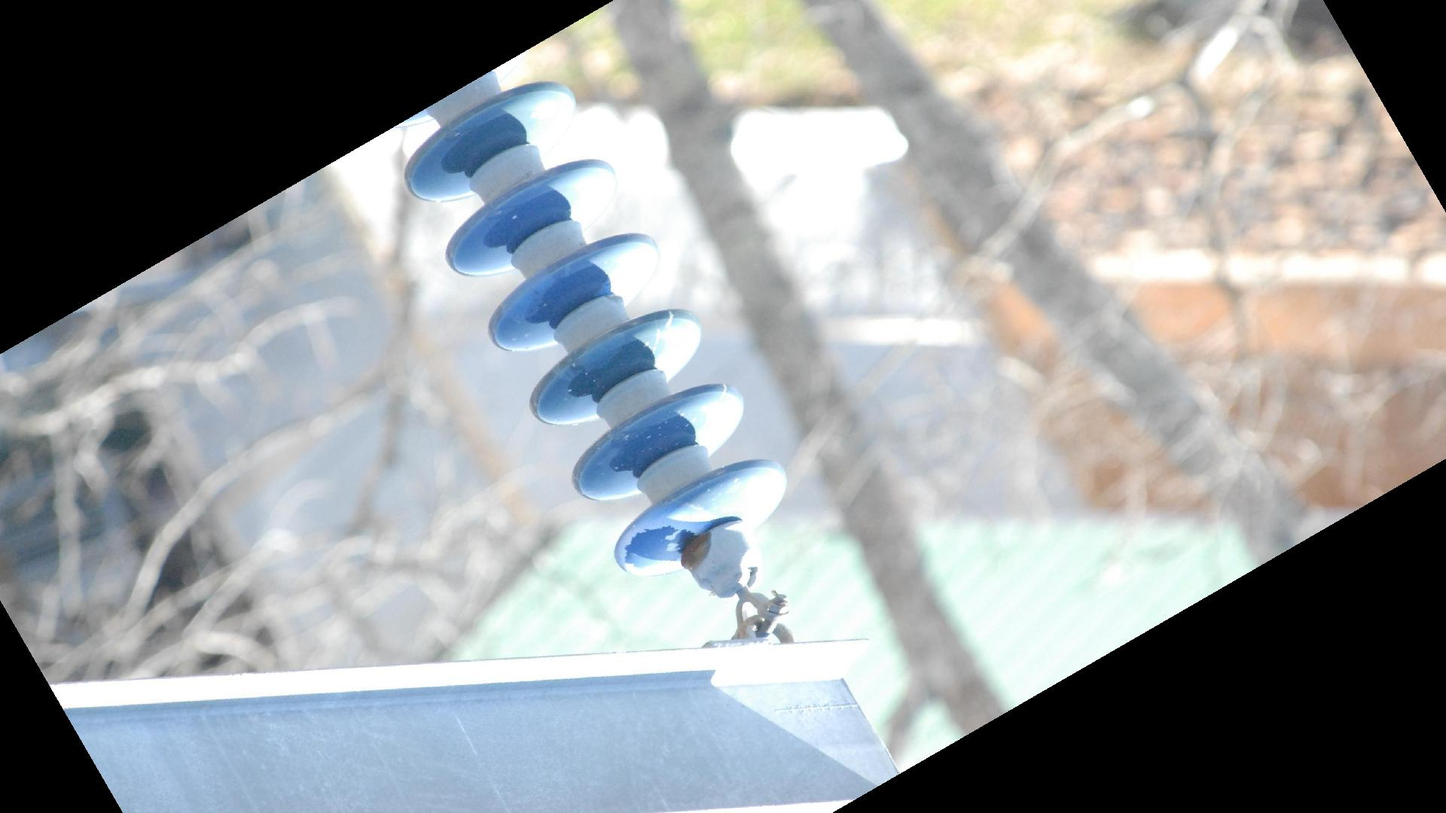insulator: (401, 75, 793, 577)
insulator_flashover: (621, 523, 697, 570)
